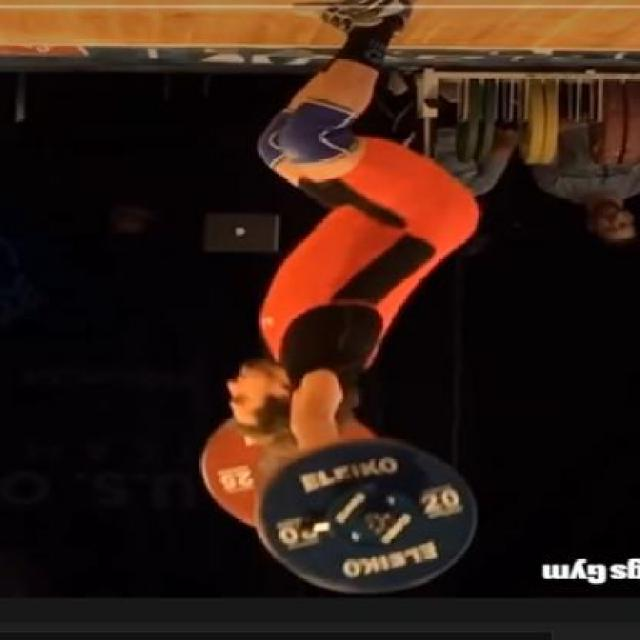Barbell: (336, 494, 412, 546)
